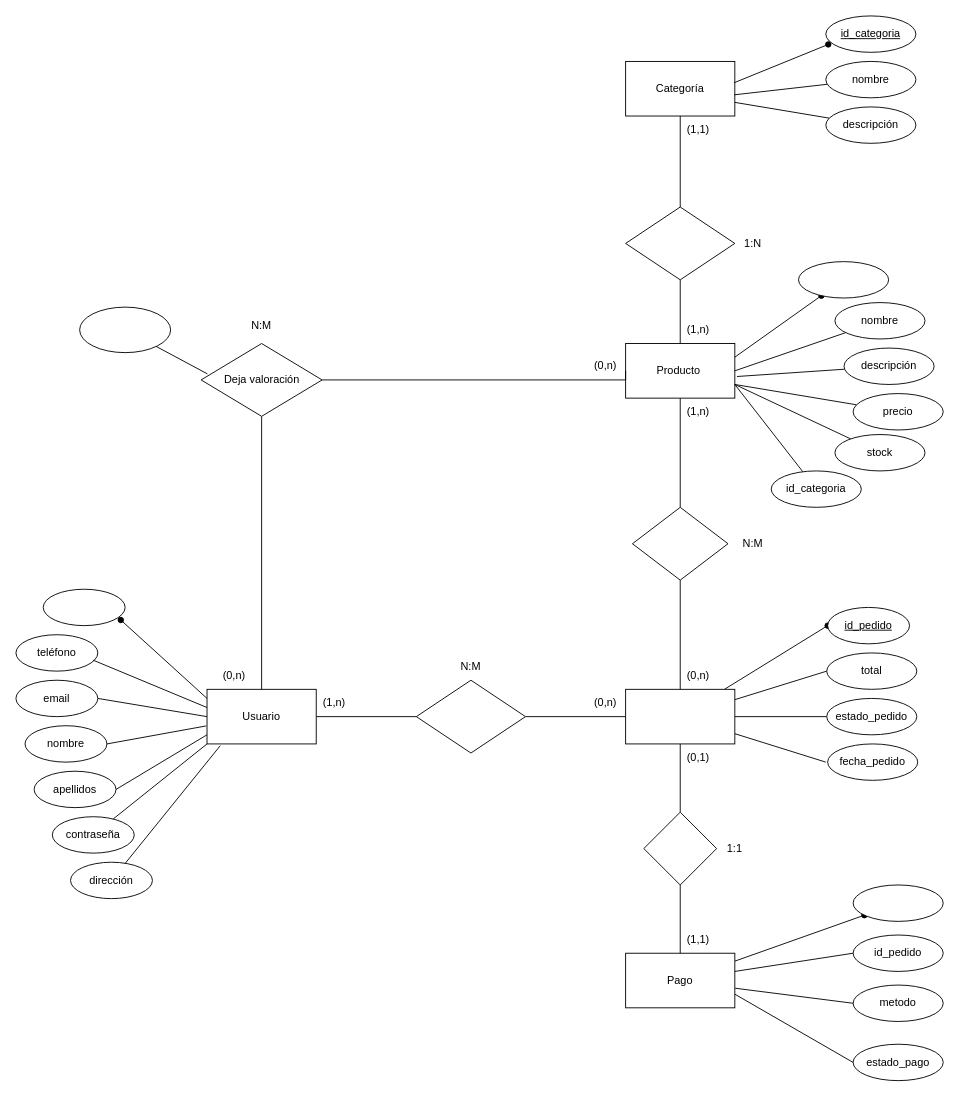
Some shapes in this 959 by 1097 pixel diagram are drawn without their labels. The centre of each missing label's shape, as x and y in pixels:
"Asociado" belongs at [680,848].
"Forma parte" belongs at [680,543].
"Hace" belongs at [470,716].
"id_pago" belongs at [897,902].
"id_producto" belongs at [843,279].
"id_usuario" belongs at [83,607].
"Pedido" belongs at [680,716].
"Pertenece" belongs at [680,243].
"Valoración" belongs at [125,329].
